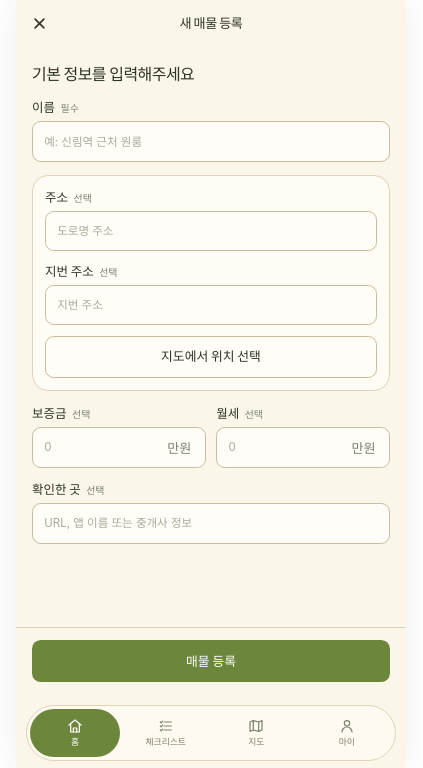
Test case: FE-2 등록·수정·메모 › 등록 실패 시 입력을 유지하고 서버 validation 필드를 가까이 표시한다
Step 1. Type "유지할 이름" into the field labelled "이름" → (211, 142), box [32,121,390,162]
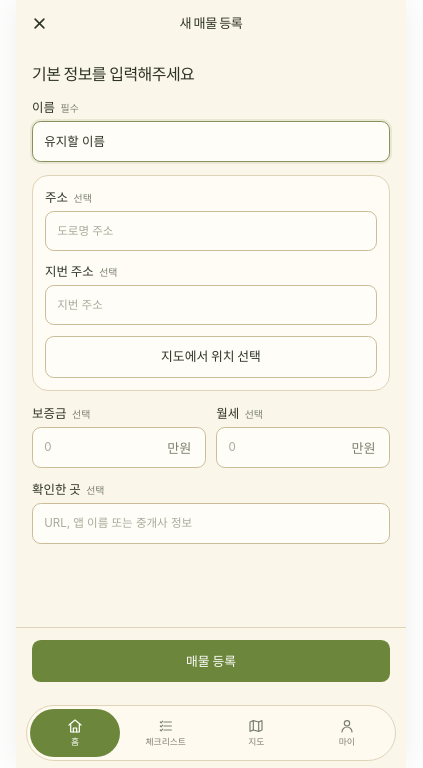
Step 2. Type "1000" into the field labelled "보증금" → (119, 447), box [32,427,206,468]
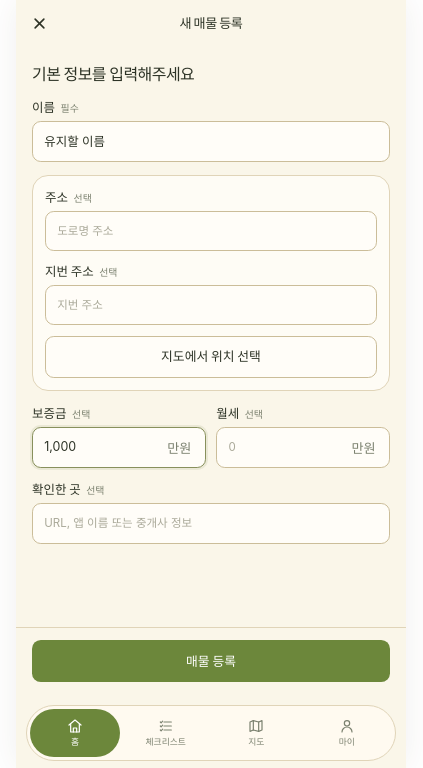
Step 3. Type "55" into the field labelled "월세" → (303, 447), box [216,427,390,468]
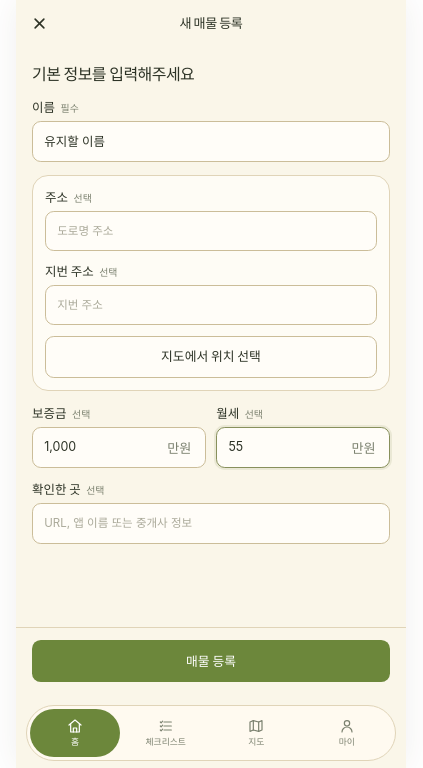
Step 4. Type "https://example.com" into the field labelled "확인한 곳" → (211, 524), box [32,503,390,544]
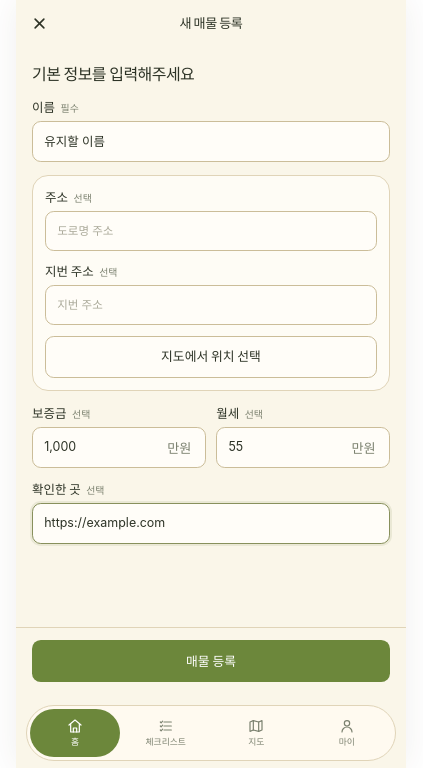
Step 5. Click the button "매물 등록" → (211, 661), box [32,640,390,682]
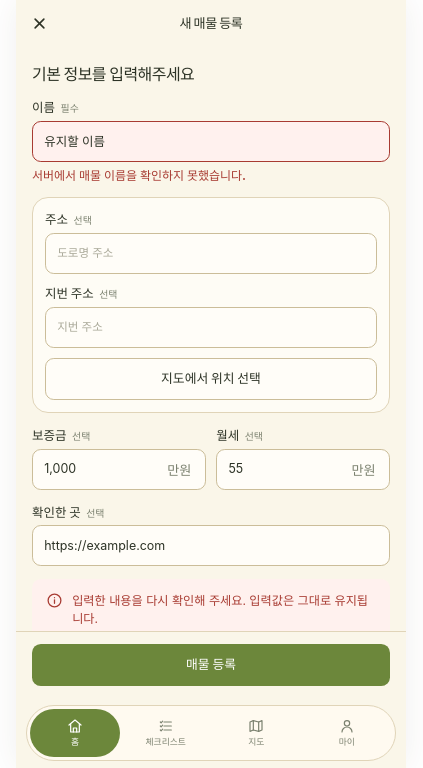
Expected: the text "서버에서 매물 이름을 확인하지 못했습니다." is shown, [32,168,246,183]
